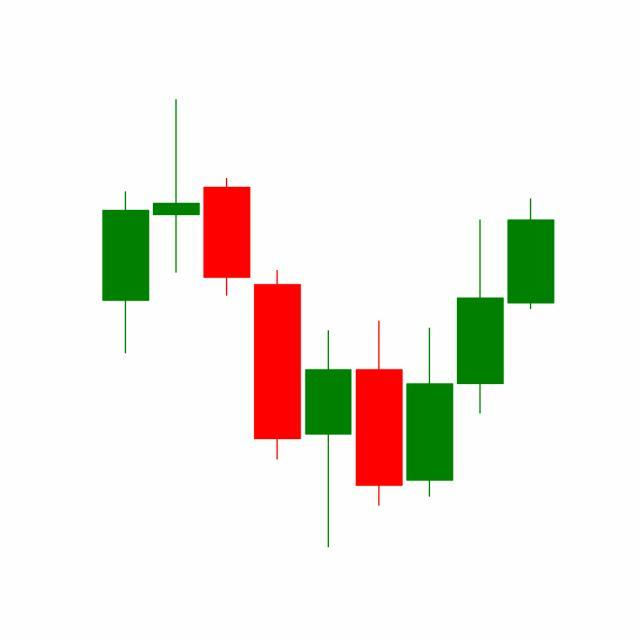Hikkake Pattern: (252, 215, 506, 548)
